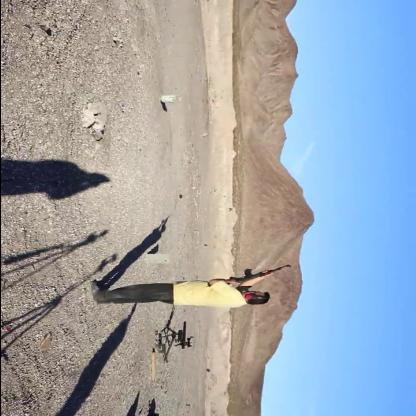long weapon: (216, 256, 299, 288), (150, 319, 204, 355)
